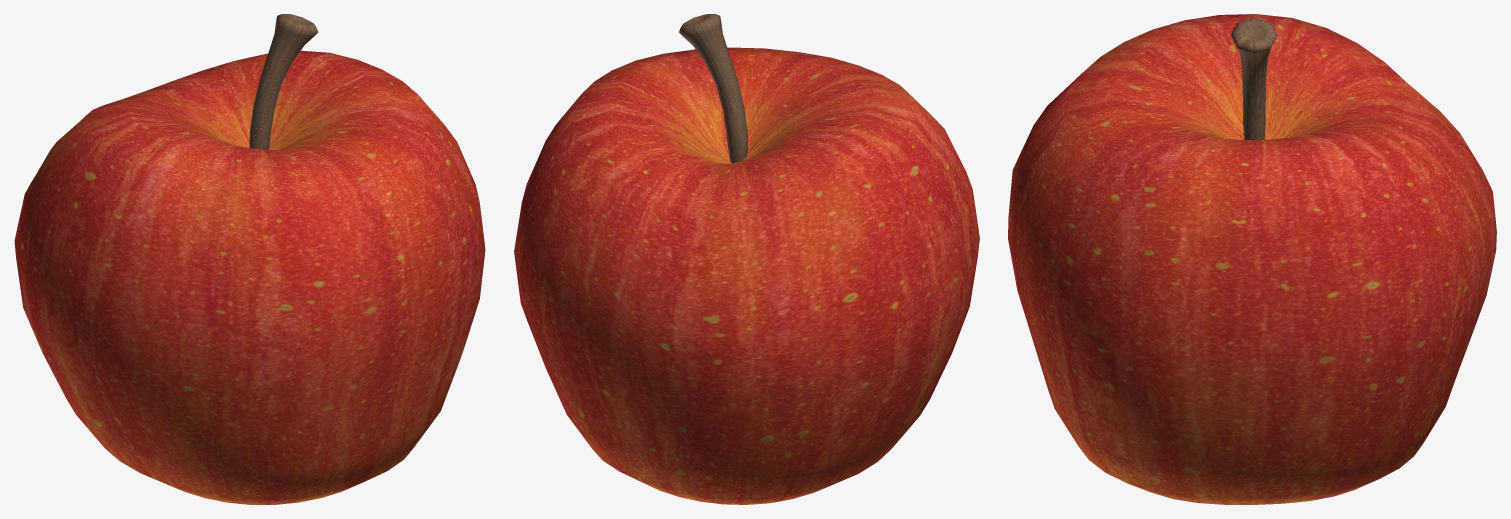
The model's file is apple.fbx.
3 views of the same model, side by side, from view 1: azimuth 30°, elevation 25°; view 2: azimuth 150°, elevation 25°; view 3: azimuth 270°, elevation 25° (orthographic). The views are drawn at different scales.
Parts seen in each view (by area): view 1: Sphere; view 2: Sphere; view 3: Sphere.
Part boxes in pixels (box(x1,y1,x2,y2)): Sphere: box(14, 14, 485, 504); Sphere: box(514, 14, 979, 504); Sphere: box(1008, 14, 1496, 504).
Bounding box in the file's own units: 180 × 183 × 180.
Materials: 2 (2 with a texture image).
